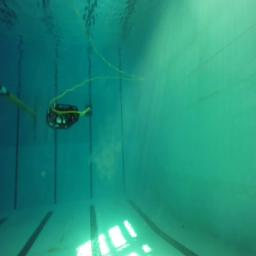Side: (46, 101, 81, 130)
